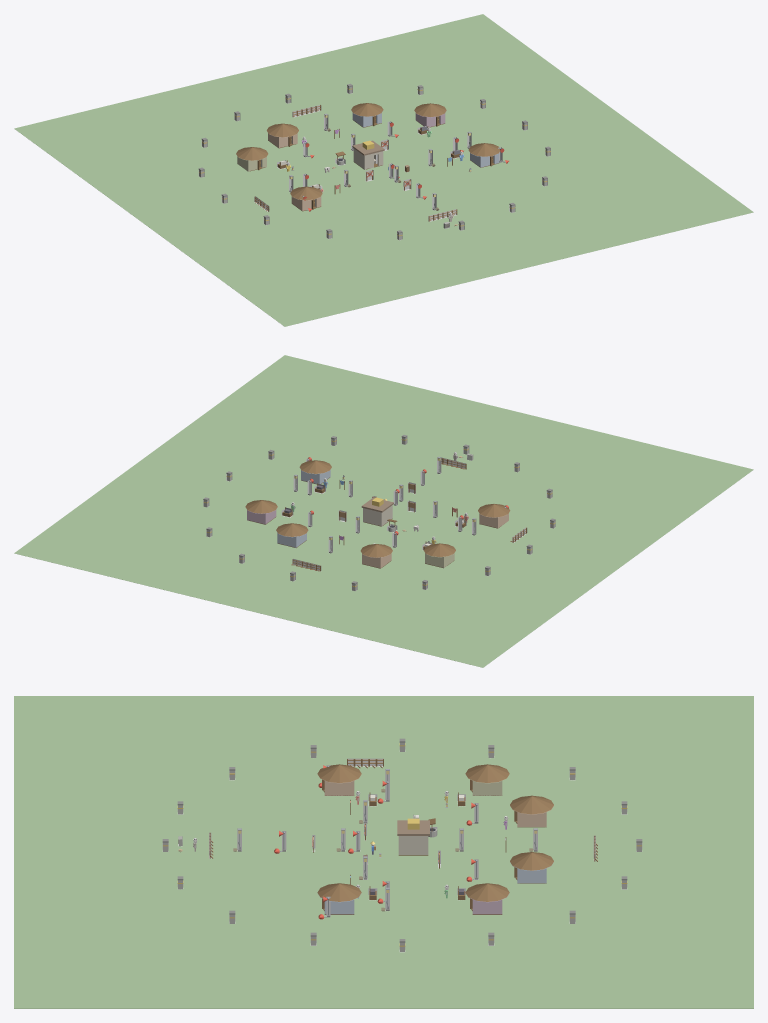
The model's file is village.glb.
3 views of the same model, one above another, from view 1: azimuth 30°, elevation 25°; view 2: azimuth 150°, elevation 25°; view 3: azimuth 270°, elevation 25° (orthographic). The views are drawn at different scales.
Parts seen in each view (by area): view 1: ground; view 2: ground; view 3: ground, house_05__intact_roof, house_06__intact_roof, house_04__intact_roof, house_03__intact_roof, house_01__intact_roof, house_02__intact_roof.
Part boxes in pixels (bbox=[...]): ground: bbox=[14, 14, 753, 326]; ground: bbox=[14, 355, 753, 667]; ground: bbox=[14, 696, 753, 1008]; house_05__intact_roof: bbox=[510, 795, 553, 814]; house_06__intact_roof: bbox=[510, 852, 553, 870]; house_04__intact_roof: bbox=[465, 883, 509, 901]; house_03__intact_roof: bbox=[465, 764, 509, 782]; house_01__intact_roof: bbox=[317, 764, 361, 782]; house_02__intact_roof: bbox=[317, 883, 361, 901].
Bounding box in the file's own units: 100 × 4.61 × 100.
